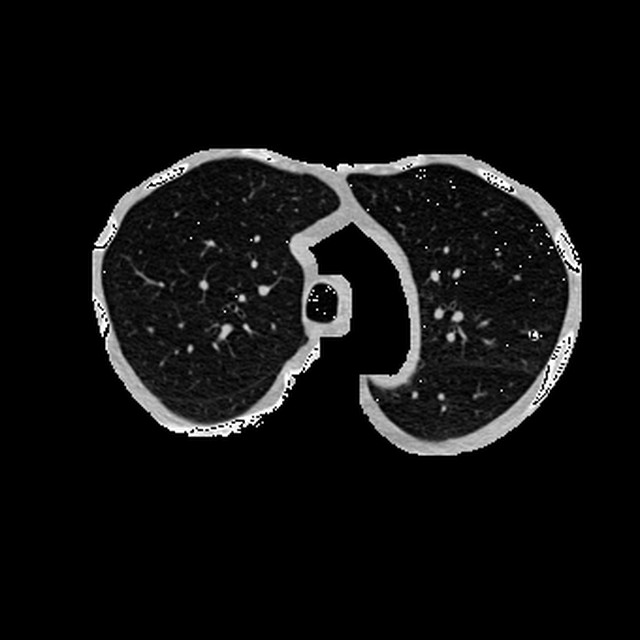PN: (527, 329, 538, 341)
